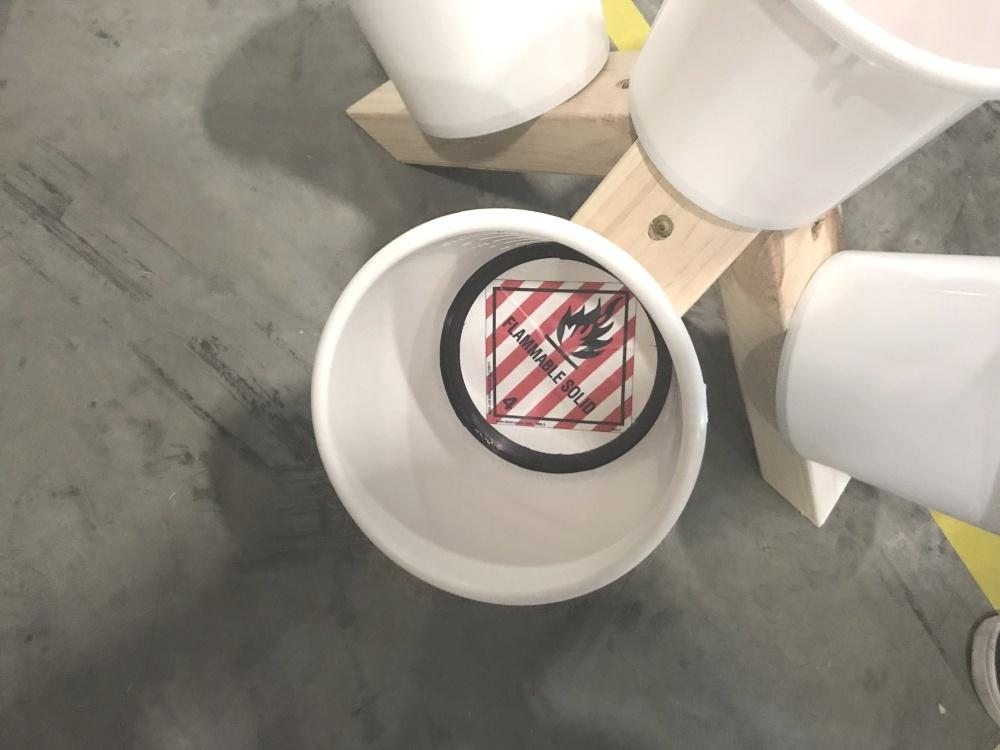flammable-solid: (480, 279, 637, 431)
